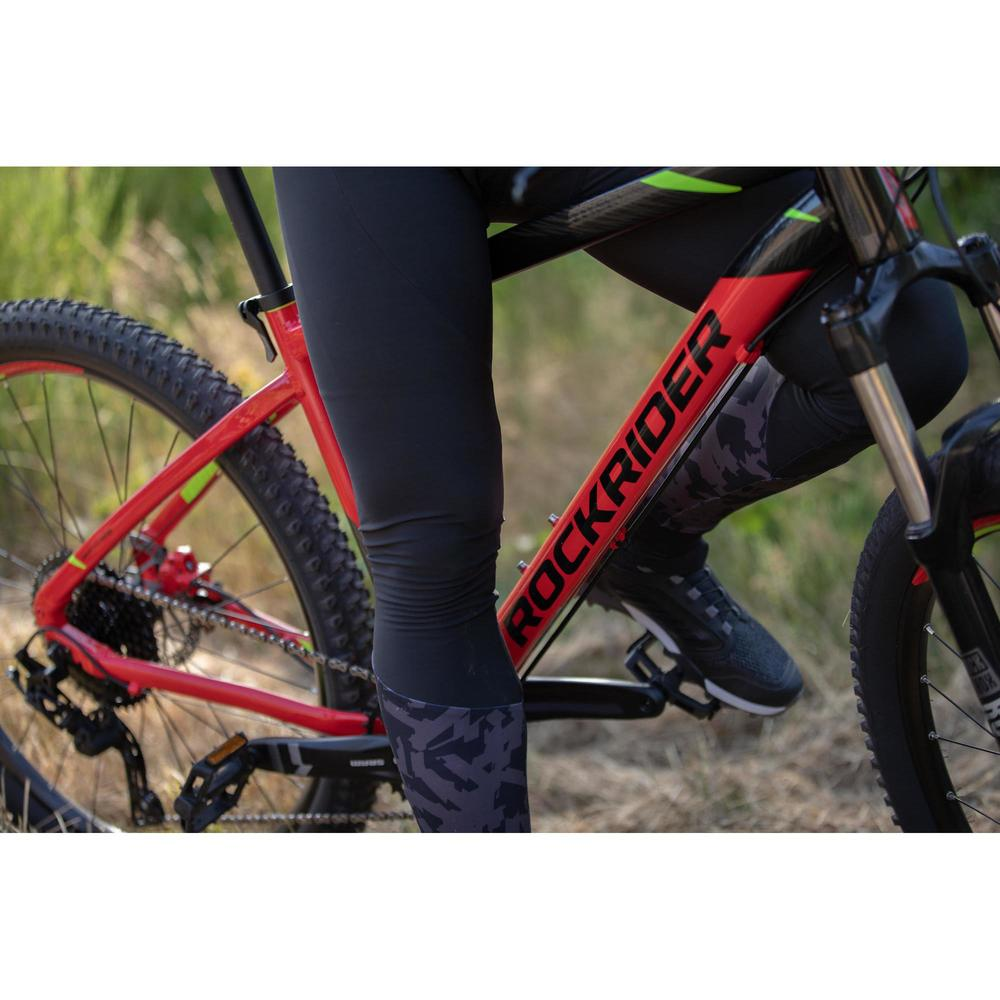MountainBike: (0, 140, 1000, 841)
